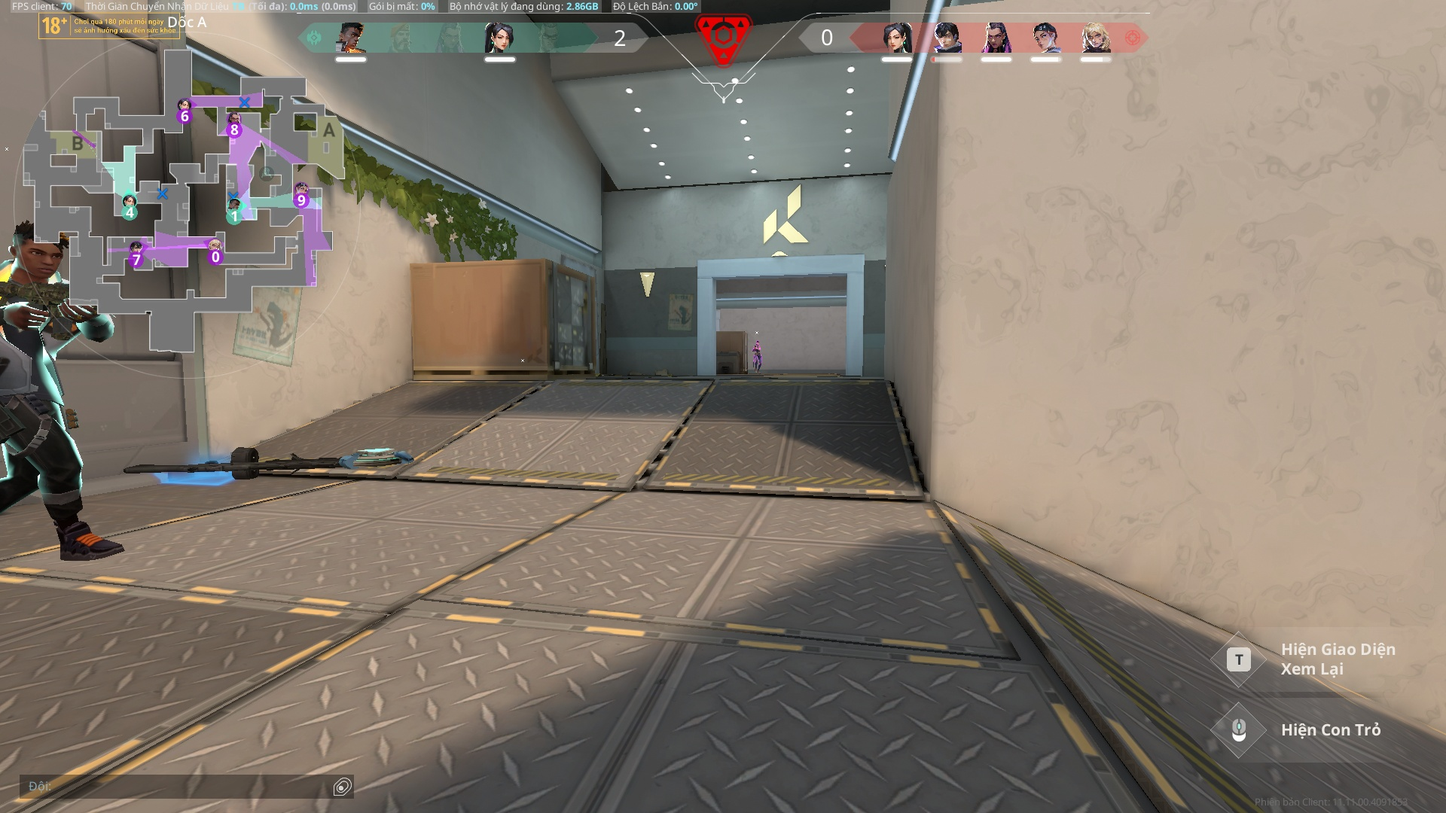body: (752, 345, 762, 356)
head: (755, 340, 760, 345)
